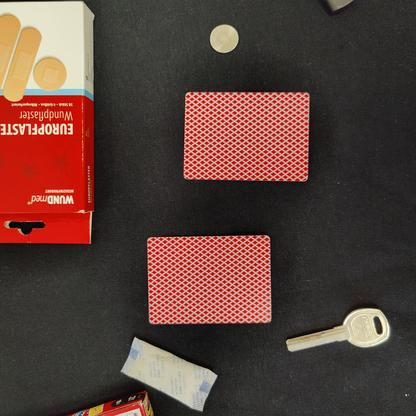card: (173, 85, 319, 190), (139, 232, 279, 327)
